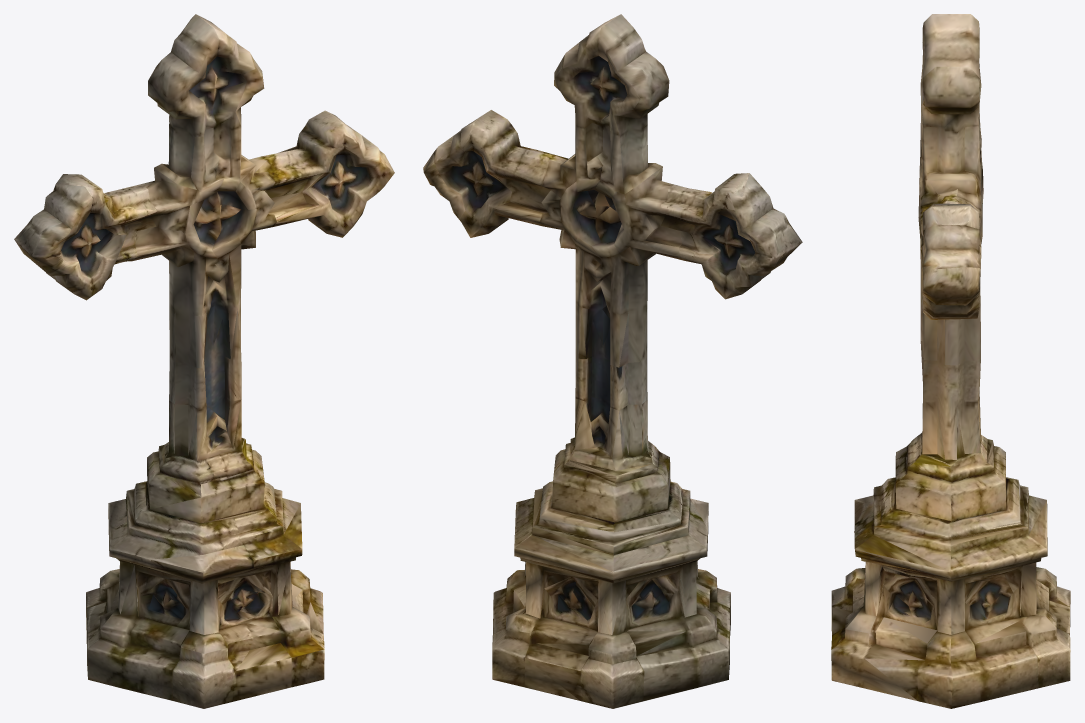
File: cross.glb
3 views of the same model, side by side, from view 1: azimuth 30°, elevation 25°; view 2: azimuth 150°, elevation 25°; view 3: azimuth 270°, elevation 25° (orthographic).
Visible parts, largest first — view 1: cross; view 2: cross; view 3: cross.
Boxes of the visible parts, bbox=[...] form: cross: bbox=[14, 14, 394, 708]; cross: bbox=[423, 14, 802, 708]; cross: bbox=[831, 14, 1070, 708].
Bounding box in the file's own units: 0.589 × 0.9794 × 0.3334.
1 material, 1 textured.
